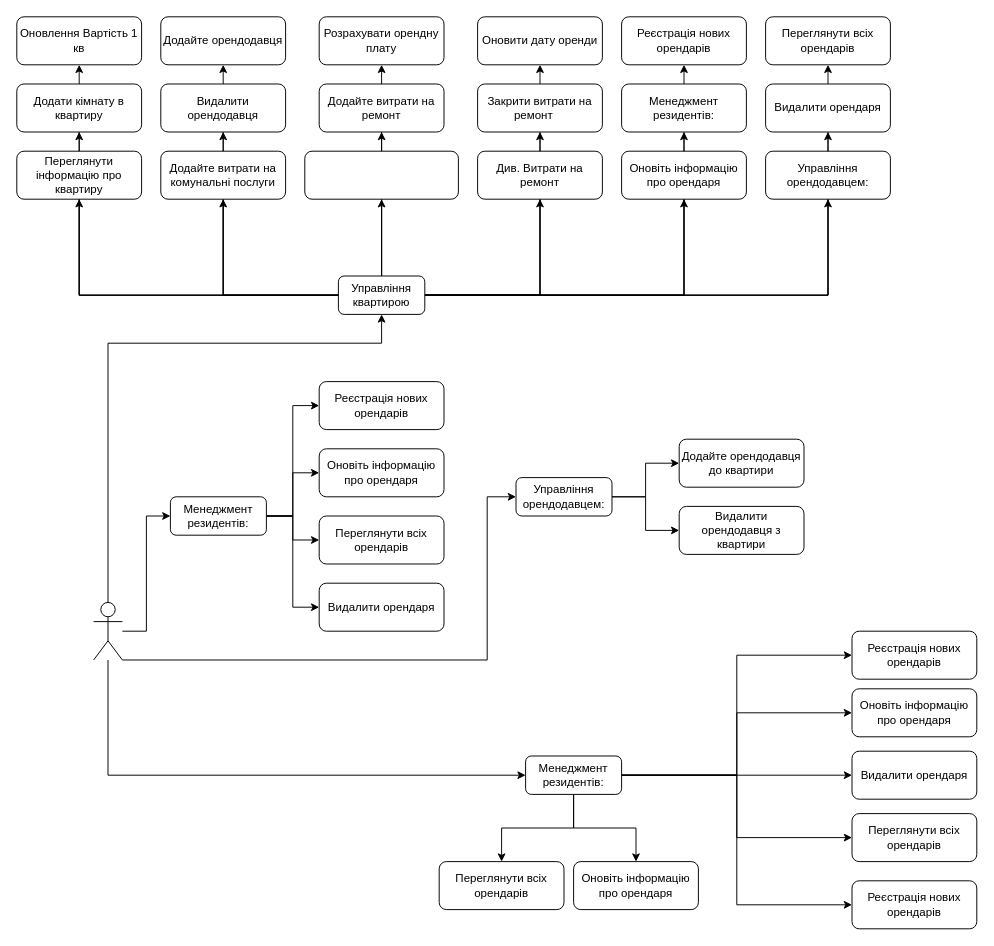
The diagram is 994 pixels wide and 946 high, and some of its shapes have lost their labels. The shapes that lost their labels are listed below. From the top down, each one's centre as x and y in pixels, then its label:
At point 381,174: "Перегляньте інформацію про витрати на комунальні послуги".
At point 107,630: "Адміністратор".
